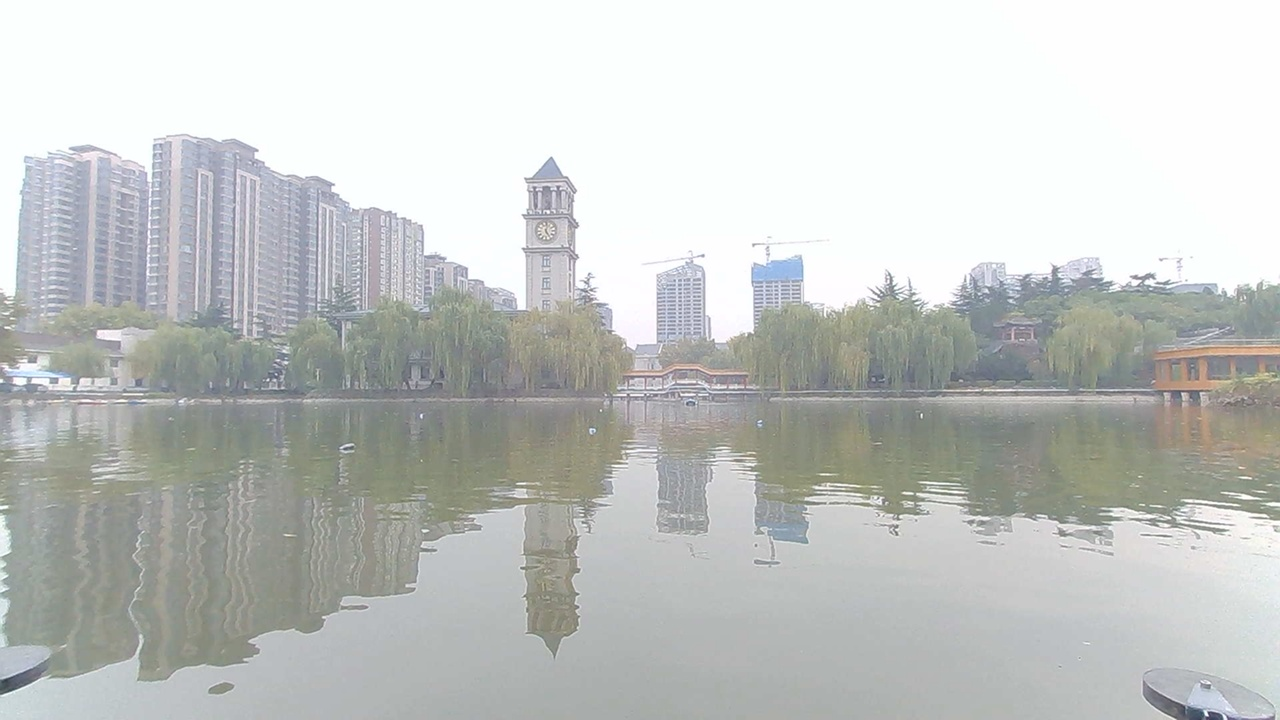bottle: (330, 433, 367, 462), (402, 400, 439, 429), (745, 412, 779, 439), (909, 403, 939, 429), (576, 426, 613, 447), (579, 394, 608, 416)
